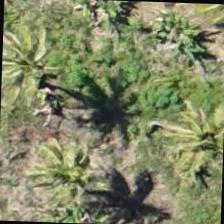Kelapa_Sawit: (18, 112, 111, 205), (0, 20, 74, 112), (166, 92, 223, 185)
